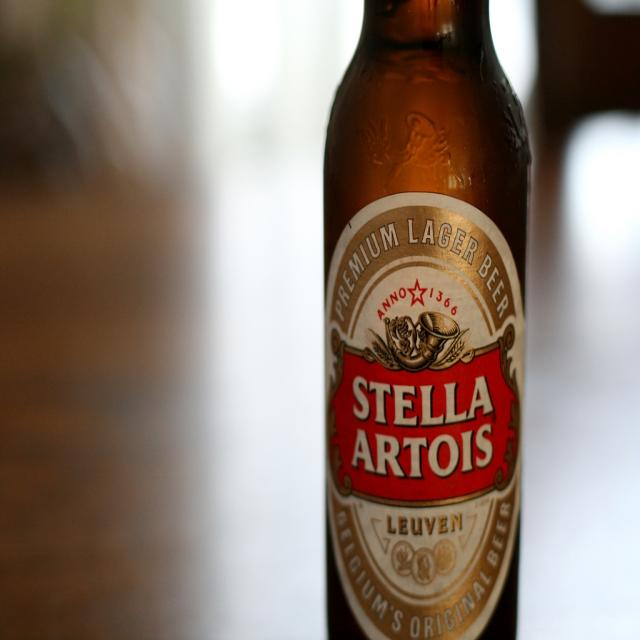stellaartois: (325, 206, 523, 640)
